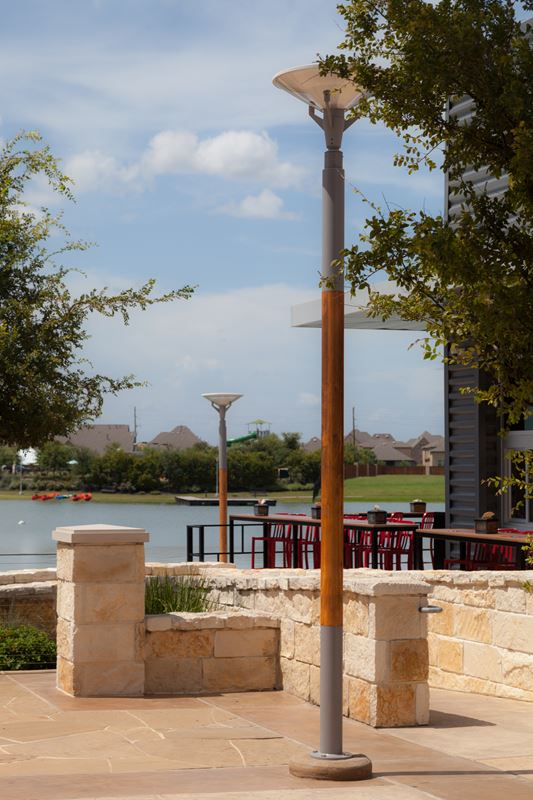light_pole: (295, 84, 369, 784)
